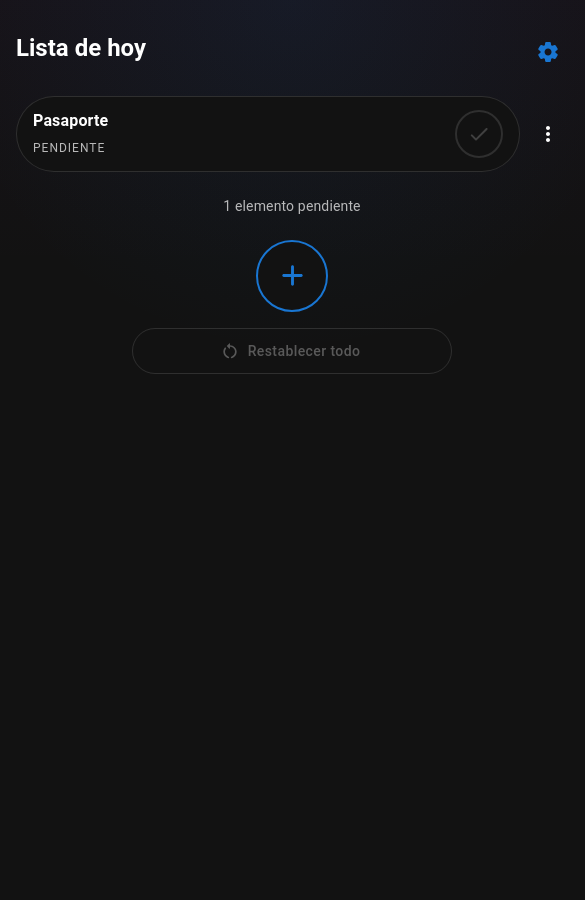
Test: CheckBefore app › restores persisted items and saved language/theme settings
Check: the heading "Lista de hoy" is shown, box x1=16 y1=32 x2=146 y2=64
Check: the text "Pasaporte" is shown, box x1=33 y1=109 x2=108 y2=133
Click the button named "Configuración" at (548, 52), box x1=528 y1=32 x2=568 y2=72
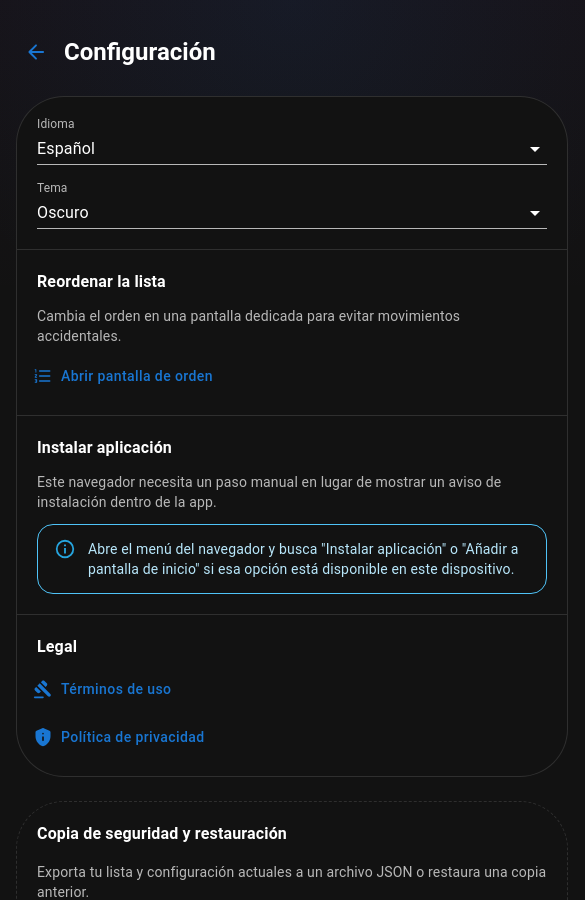
Check: the dropdown named "Idioma" reads "Español", box x1=37 y1=139 x2=95 y2=158
Check: the dropdown named "Tema" reads "Oscuro", box x1=37 y1=203 x2=89 y2=222
